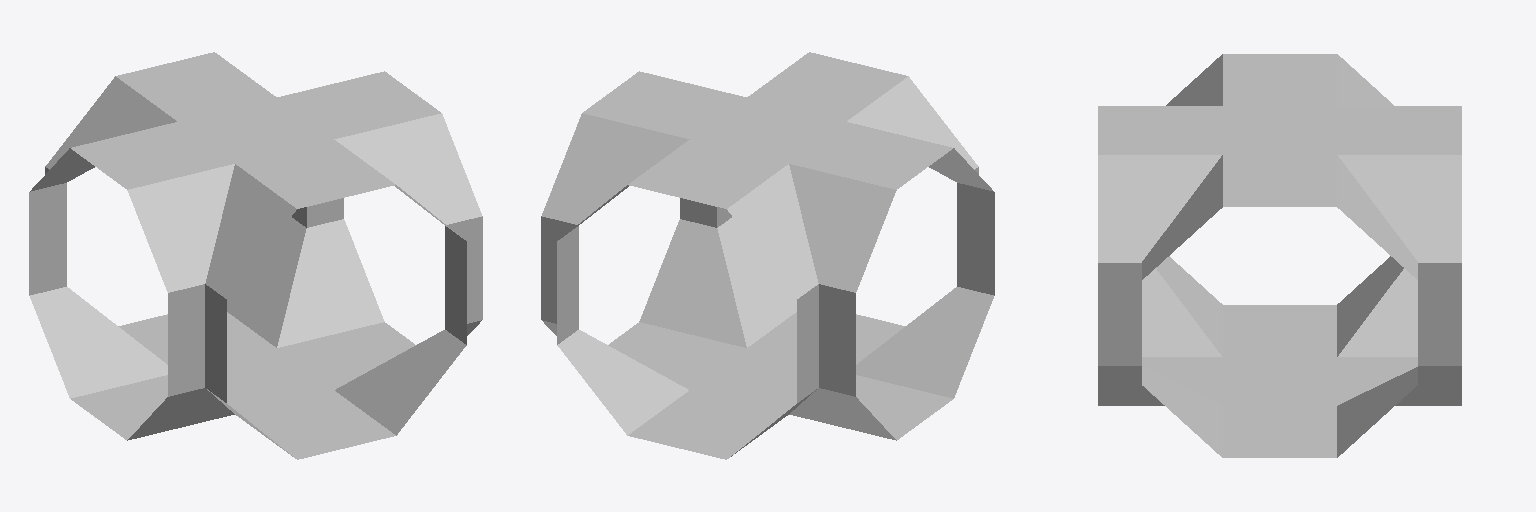
Rendered from pipeSquare.obj.
3 renders of one model, left to right at view 1: azimuth 30°, elevation 25°; view 2: azimuth 150°, elevation 25°; view 3: azimuth 270°, elevation 25°, orthographic.
Visible parts, largest first — view 1: mesh01; view 2: mesh01; view 3: mesh01.
Part boxes in pixels (x1,y1,x2,y2): mesh01: (29,52,482,459); mesh01: (541,52,994,459); mesh01: (1098,54,1461,457).
Size of the model in its own units: 1 by 0.7611 by 1.